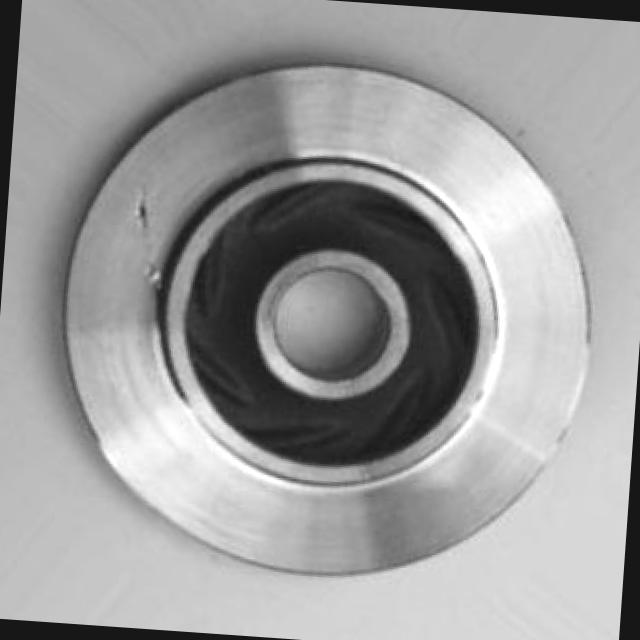Defect: (126, 190, 160, 238)
